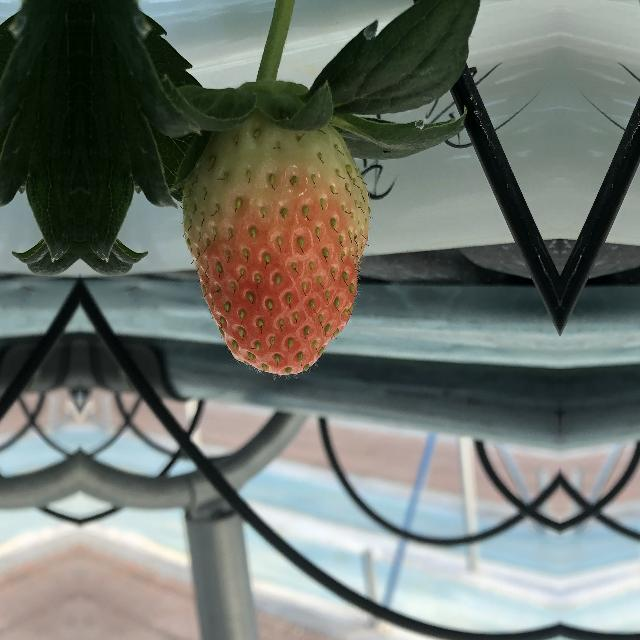Health_75: (171, 106, 377, 382)
